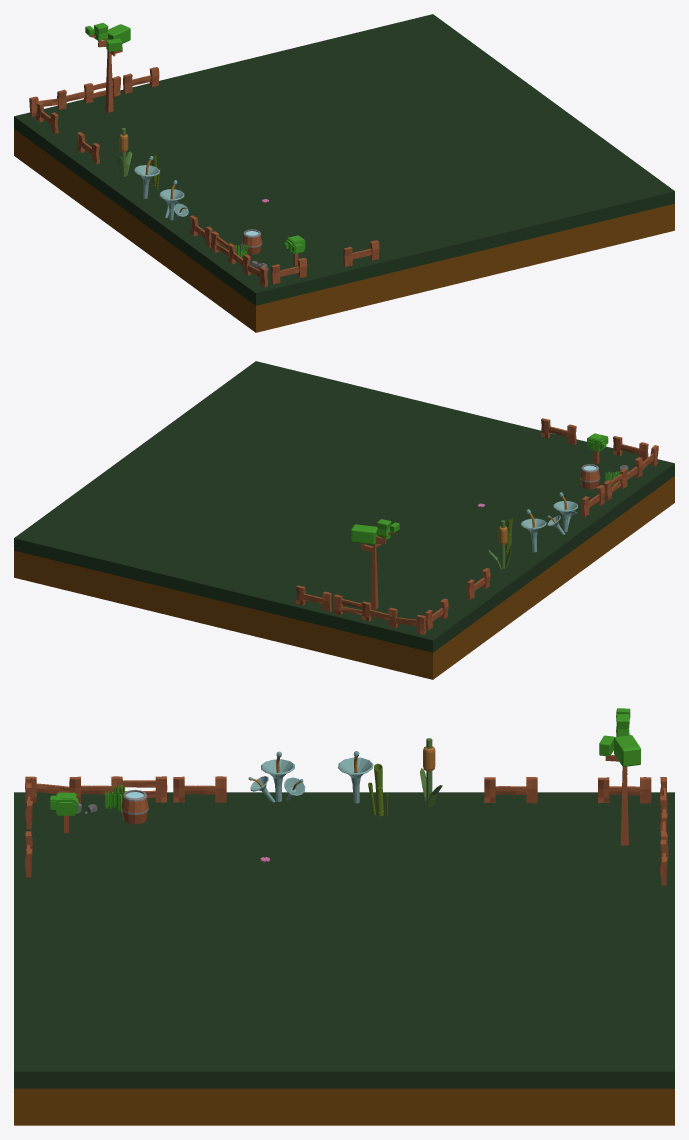
Rendered from TestMAP_02_FBX.fbx.
3 renders of one model, top to bottom at view 1: azimuth 30°, elevation 25°; view 2: azimuth 150°, elevation 25°; view 3: azimuth 270°, elevation 25°, orthographic. The views are drawn at different scales.
Parts seen in each view (by area): view 1: MAP, Barrières.001, Barrières, Arbre 4.001, Fleur lot 1, Roseau 3; view 2: MAP, Barrières.001, Barrières, Arbre 4.001, Fleur lot 1; view 3: MAP, Barrières, Barrières.001, Arbre 4.001, Fleur lot 1, Tonneau, Roseau 3, Fleur 2, Arbre carré 2.
Part boxes in pixels (left/top/right/bottom): MAP: left=14, top=14, right=674, bottom=332; Barrières.001: left=29, top=67, right=159, bottom=164; Barrières: left=190, top=215, right=379, bottom=287; Arbre 4.001: left=85, top=23, right=130, bottom=112; Fleur lot 1: left=159, top=180, right=188, bottom=221; Roseau 3: left=118, top=128, right=132, bottom=177; MAP: left=14, top=361, right=674, bottom=679; Barrières.001: left=296, top=568, right=490, bottom=634; Barrières: left=541, top=418, right=658, bottom=517; Arbre 4.001: left=350, top=519, right=399, bottom=609; Fleur lot 1: left=547, top=492, right=577, bottom=534; MAP: left=14, top=792, right=674, bottom=1125; Barrières: left=25, top=776, right=226, bottom=877; Barrières.001: left=484, top=777, right=668, bottom=885; Arbre 4.001: left=599, top=708, right=640, bottom=845; Fleur lot 1: left=248, top=751, right=305, bottom=802; Tonneau: left=121, top=789, right=148, bottom=824; Roseau 3: left=420, top=738, right=442, bottom=807; Fleur 2: left=338, top=751, right=373, bottom=803; Arbre carré 2: left=50, top=792, right=78, bottom=832.
Size of the model in its own units: 2219 by 647 by 2219.
